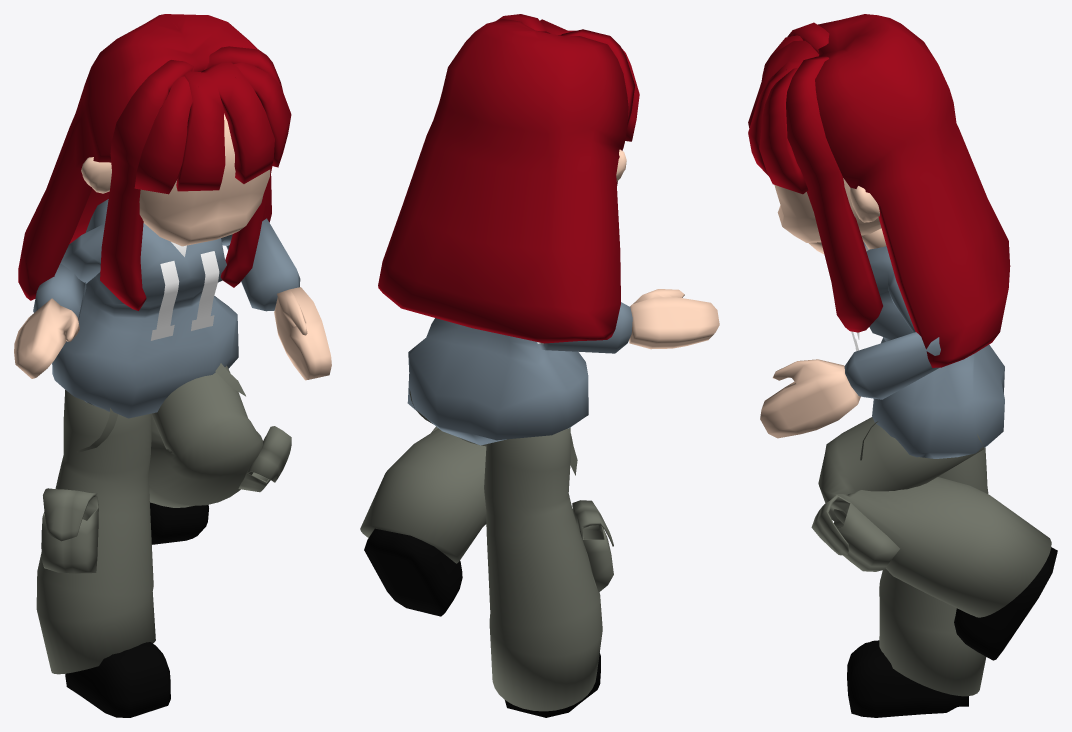
File: umi_run_1.glb
3 renders of one model, left to right at view 1: azimuth 30°, elevation 25°; view 2: azimuth 150°, elevation 25°; view 3: azimuth 270°, elevation 25°, orthographic. The views are drawn at different scales.
Parts seen in each view (by area): view 1: pants, sweater, hair.003, hair.001, hair, feet, hand, head, bolsillo, hair.002, Plane, ear (+1 smaller); view 2: hair.003, pants, sweater, feet, hand, bolsillo, hair.001; view 3: hair.003, pants, sweater, hair.001, feet, hand, bolsillo, hair.002, hair, head, ear.
Boxes of the visible parts, x1,y1,x2,y2 form: pants: [36, 365, 262, 674]; sweater: [33, 199, 300, 418]; hair.003: [18, 14, 271, 300]; hair.001: [100, 46, 282, 310]; hair: [176, 62, 274, 191]; feet: [65, 502, 208, 717]; hand: [14, 287, 331, 380]; head: [139, 113, 270, 246]; bolsillo: [41, 426, 291, 573]; hair.002: [134, 62, 291, 194]; Plane: [151, 251, 219, 340]; ear: [81, 157, 111, 193]; hair.003: [378, 19, 628, 343]; pants: [360, 389, 602, 711]; sweater: [407, 302, 632, 445]; feet: [364, 528, 600, 717]; hand: [629, 289, 719, 349]; bolsillo: [431, 426, 613, 592]; hair.001: [496, 14, 634, 185]; hair.003: [815, 14, 1010, 367]; pants: [818, 417, 1051, 696]; sweater: [844, 241, 1004, 458]; hair.001: [786, 22, 882, 332]; feet: [847, 547, 1057, 717]; hand: [760, 242, 860, 438]; bolsillo: [811, 495, 899, 571]; hair.002: [759, 35, 808, 194]; hair: [748, 40, 819, 175]; head: [774, 178, 881, 242]; ear: [849, 186, 879, 222].
Size of the model in its own units: 2.31 by 4.97 by 2.01.
